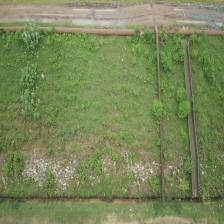slope_drain: (182, 40, 199, 197)
